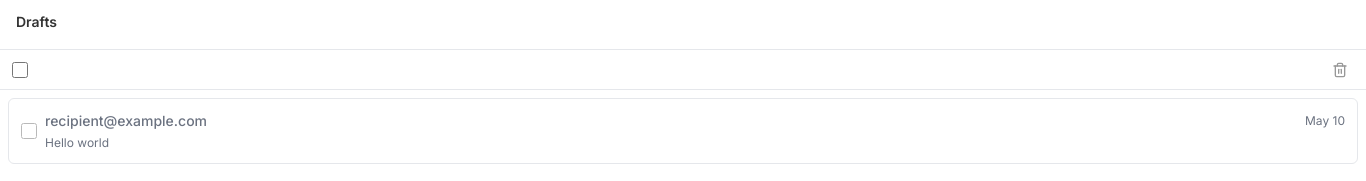
Scenario: DraftsList — bulk actions › clicking a draft checkbox selects it and enables delete button
Click the checkbox named "Select email": click(29, 131) [21,123,37,139]
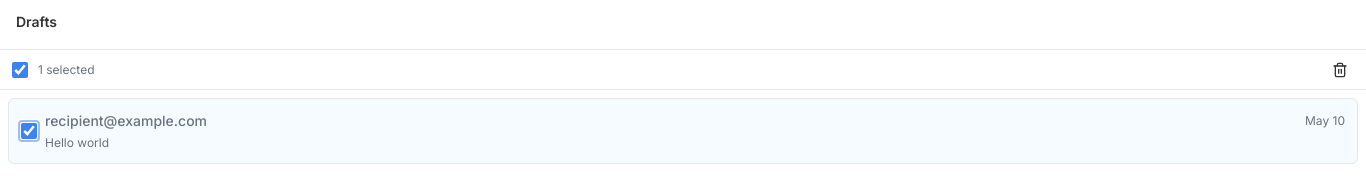
expect the button with test id "bulk-delete-button" is enabled: met, box [1326,56,1354,84]
expect the text with test id "selection-count" reads "1 selected": met, box [38,62,94,78]
